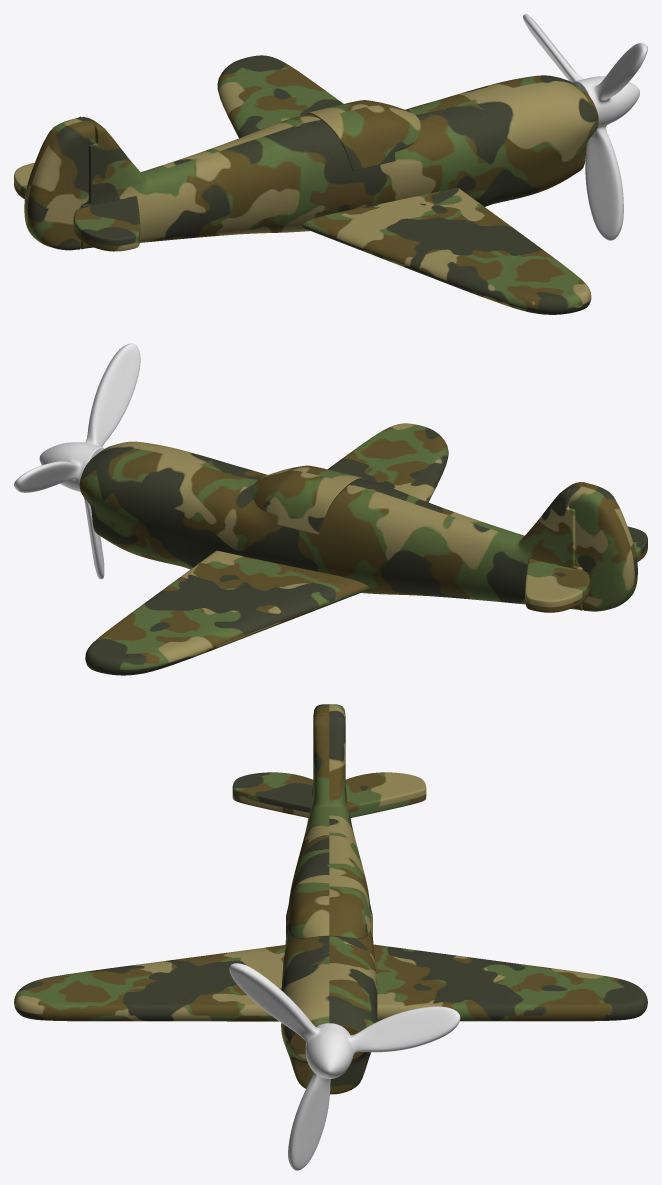
File: Avion 1.fbx
3 views of the same model, one above another, from view 1: azimuth 30°, elevation 25°; view 2: azimuth 150°, elevation 25°; view 3: azimuth 270°, elevation 25° (orthographic). The views are drawn at different scales.
Parts seen in each view (by area): view 1: 20973_Old_Fighter_Plane_with_Propeller_v2, 20973_Old_Fighter_Plane_with_Propeller_v2.001; view 2: 20973_Old_Fighter_Plane_with_Propeller_v2, 20973_Old_Fighter_Plane_with_Propeller_v2.001; view 3: 20973_Old_Fighter_Plane_with_Propeller_v2, 20973_Old_Fighter_Plane_with_Propeller_v2.001.
Part boxes in pixels (x1,y1,x2,y2): 20973_Old_Fighter_Plane_with_Propeller_v2: [14, 55, 598, 314]; 20973_Old_Fighter_Plane_with_Propeller_v2.001: [523, 14, 647, 240]; 20973_Old_Fighter_Plane_with_Propeller_v2: [79, 423, 647, 675]; 20973_Old_Fighter_Plane_with_Propeller_v2.001: [14, 343, 140, 579]; 20973_Old_Fighter_Plane_with_Propeller_v2: [14, 704, 647, 1094]; 20973_Old_Fighter_Plane_with_Propeller_v2.001: [229, 963, 460, 1170].
Size of the model in its own units: 648 by 234 by 609.
